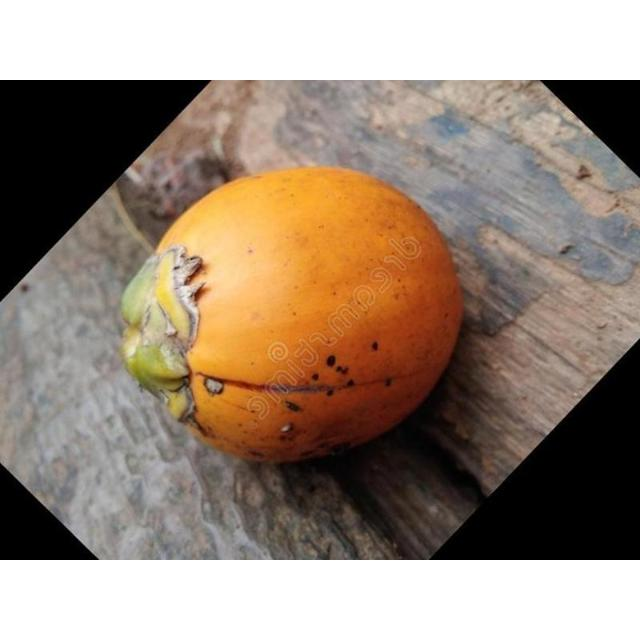good: (120, 167, 465, 466)
